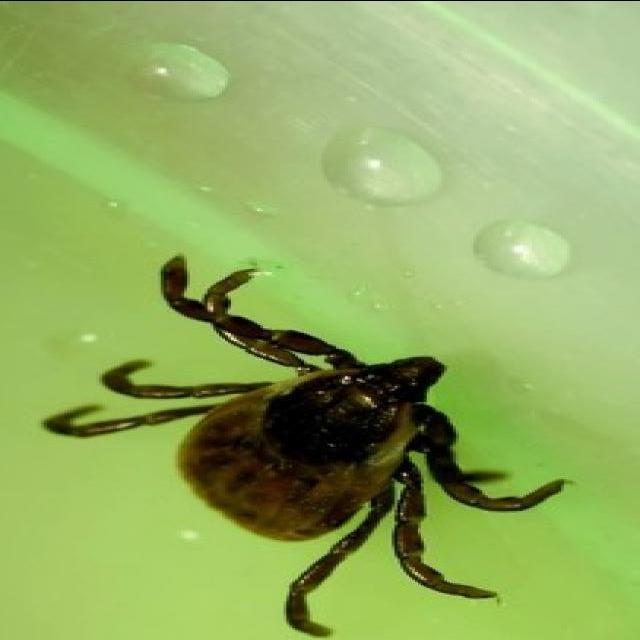Rhipicephalus Sanguineus-F: (41, 253, 567, 638)
